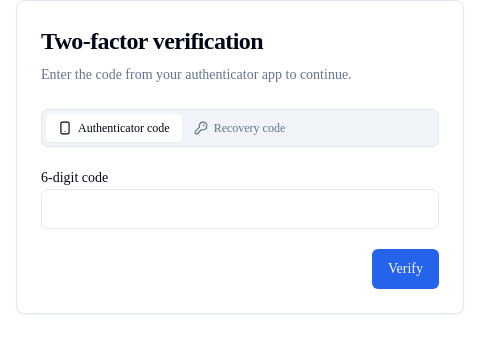
Test: MfaChallenge › shows "expired or invalid" message when the API returns 401
In the field with test id "mfa-challenge-input": (240, 209) left=41, top=189, right=439, bottom=229, type "123456"
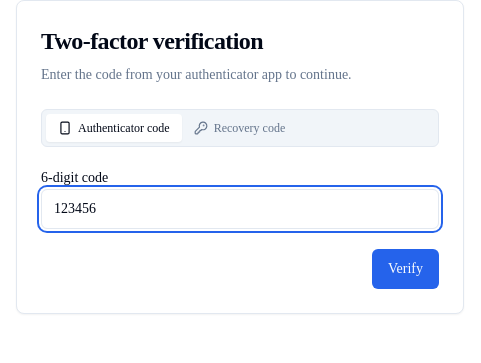
Click the button with test id "mfa-challenge-submit": (406, 269) left=372, top=249, right=439, bottom=289
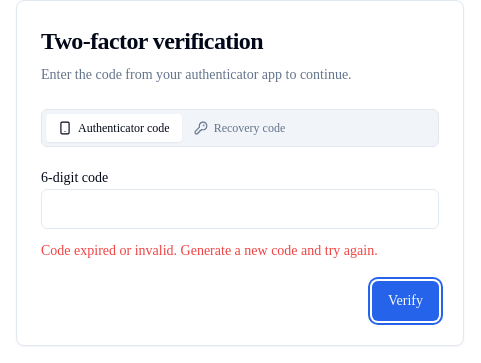
Now the message with test id "mfa-challenge-error" shows "expired or invalid", box left=41, top=243, right=378, bottom=258
Now the field with test id "mfa-challenge-input" is empty, box left=41, top=189, right=439, bottom=229
